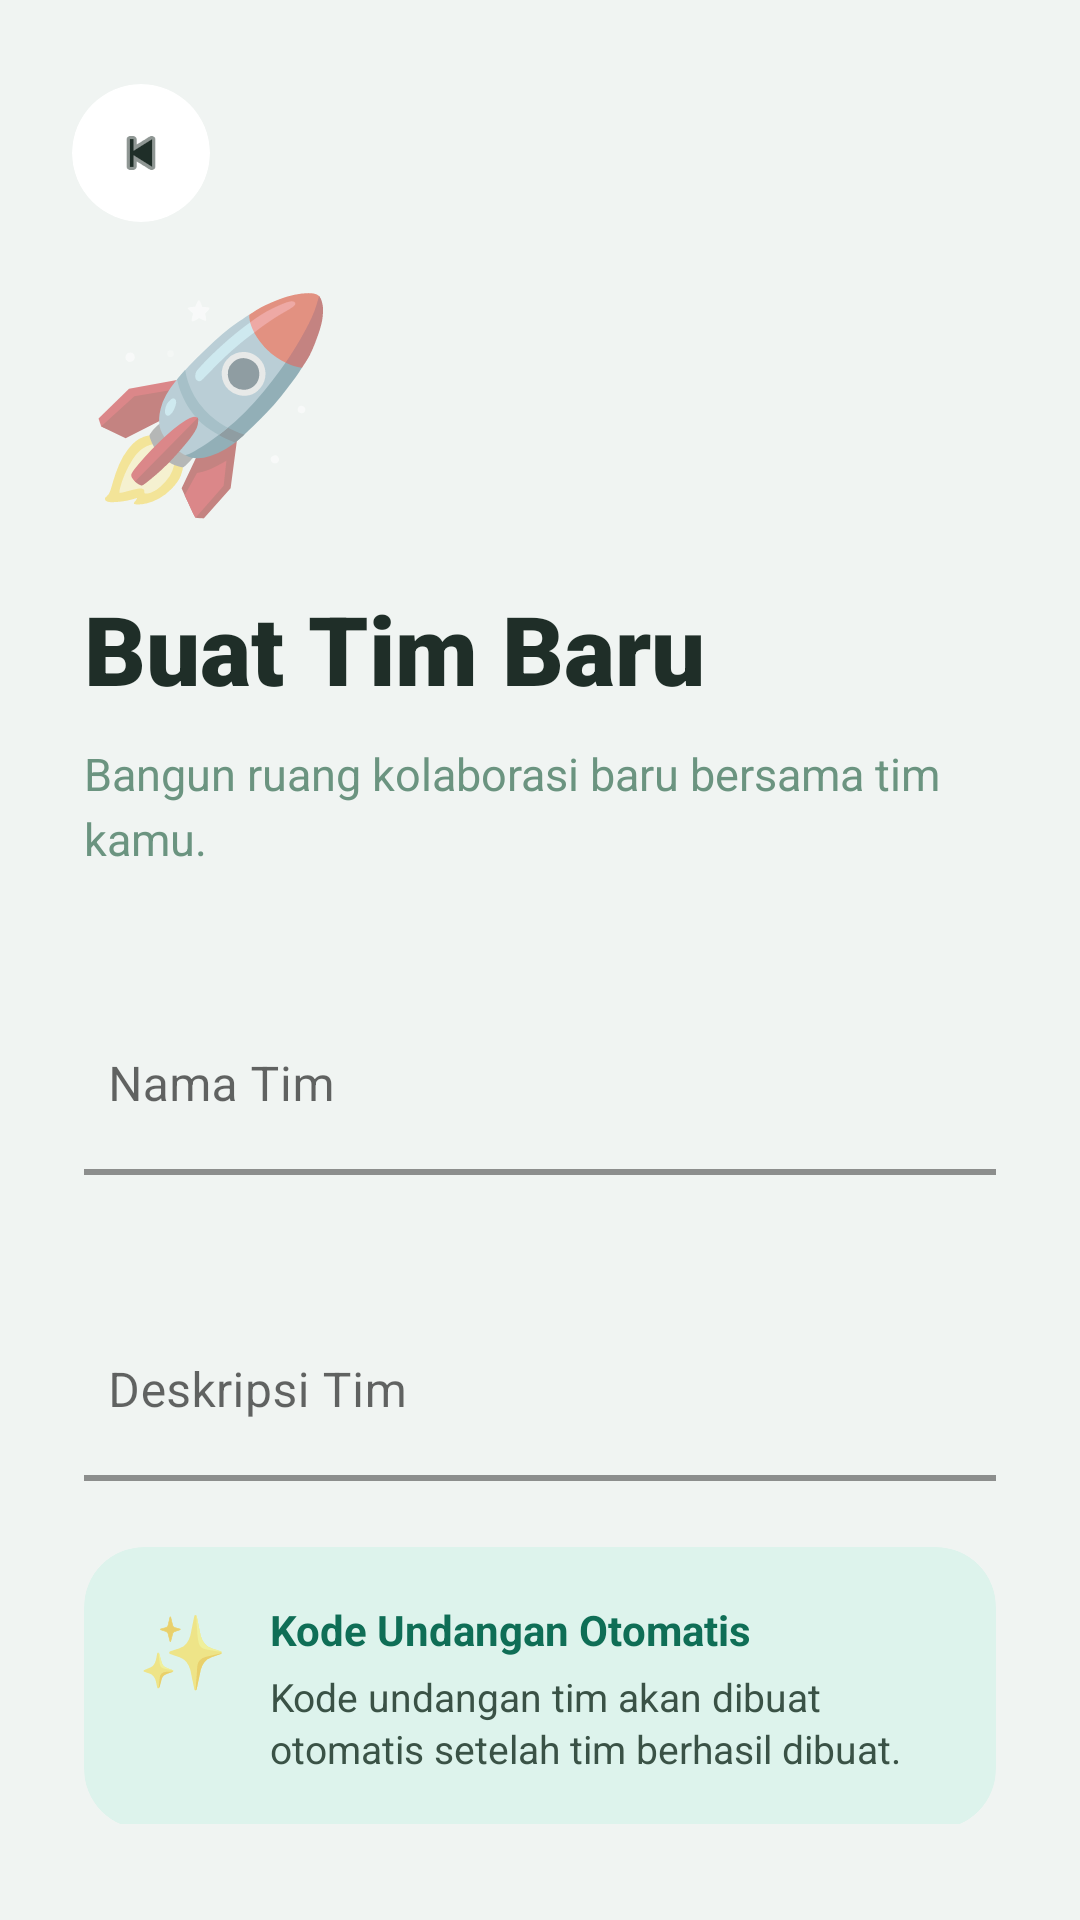

Point at icon controls on the screen. Image size 1080w x 1920h, points as (x,y).
previous: (141,153)
